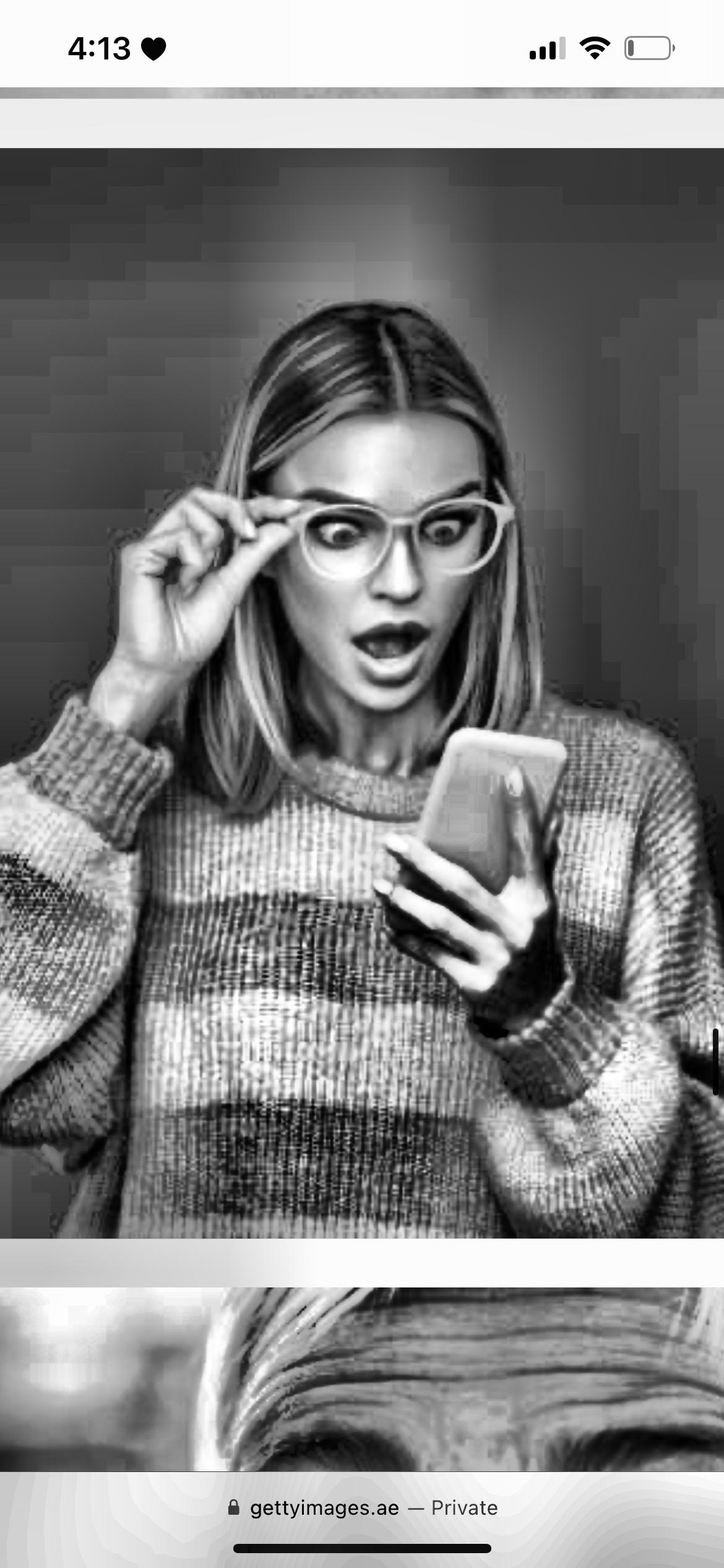surprised: (260, 412, 493, 713)
